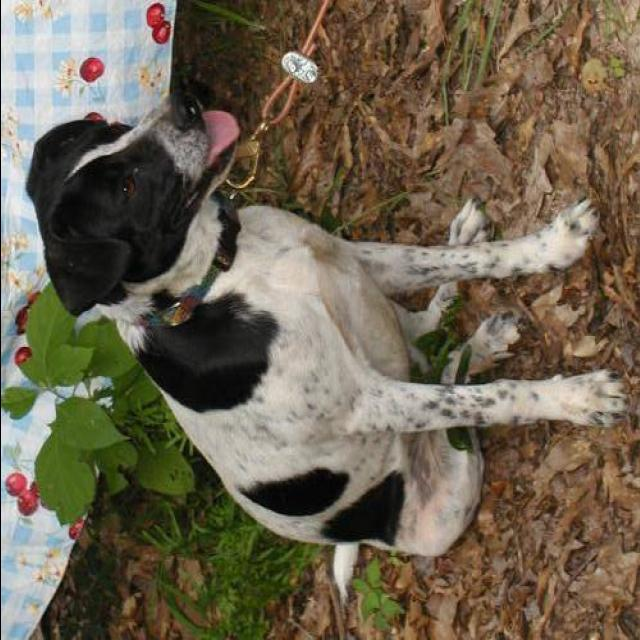dog: (21, 90, 630, 603)
